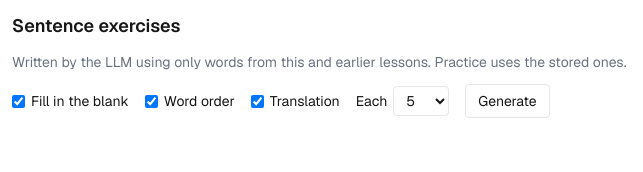
Test: GenerateExercises › shows a failed job's error
Click the button "Generate": coordinates (507, 101) [465, 84, 550, 118]
Wait 2000 ms
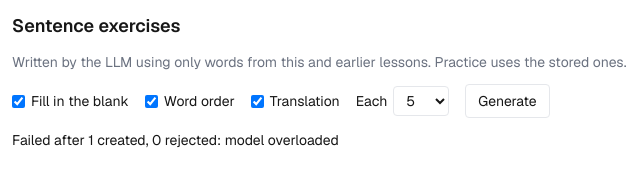
Now the message reads "Failed after 1 created, 0 rejected: model overloaded", box [12, 131, 339, 149]
